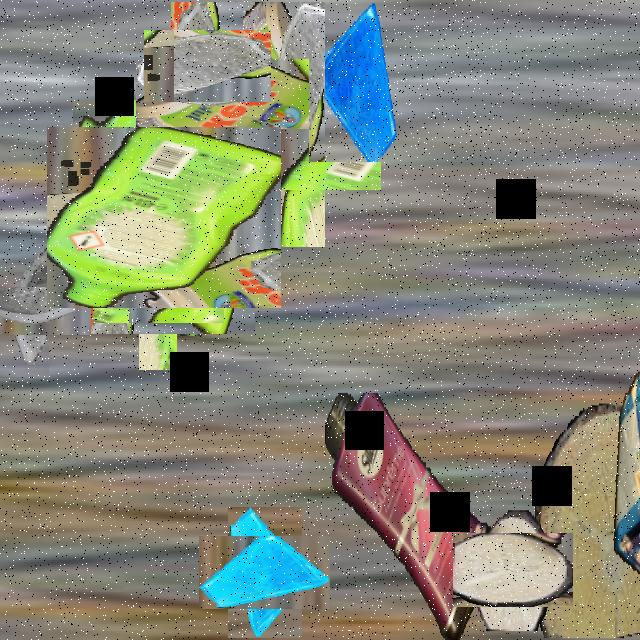glass: (309, 2, 399, 162), (214, 521, 316, 624), (157, 16, 257, 116), (0, 265, 70, 356)
plastic: (60, 113, 268, 321), (324, 393, 496, 638), (165, 30, 353, 219), (610, 366, 640, 608)
wood: (531, 404, 640, 638), (464, 522, 562, 619), (116, 262, 200, 346)
